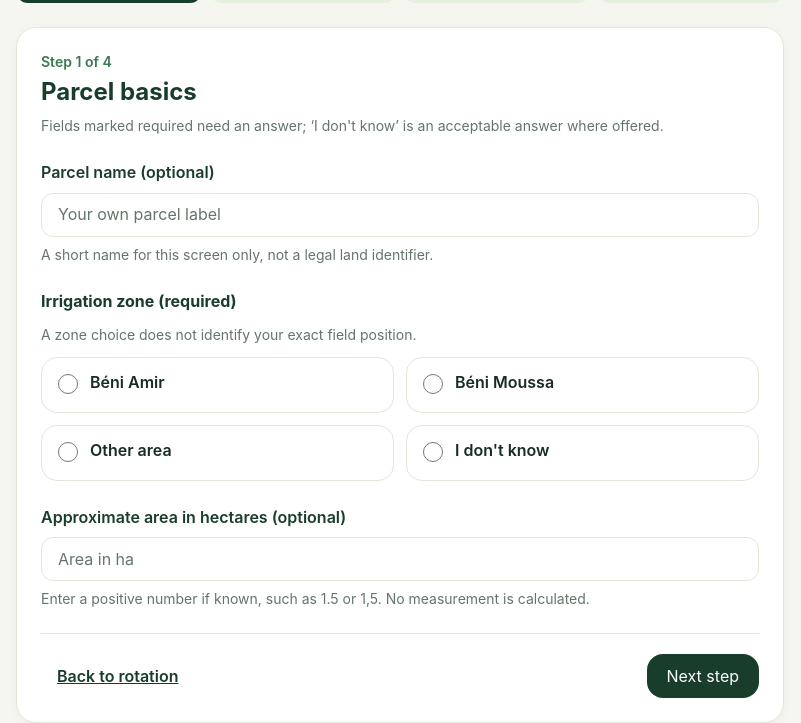
M2 guided parcel form › shows a required zone error and then accepts an explicit unknown
The width and height of the screenshot is (801, 723).
(page scrolled)
Click the button "Next step" at (703, 676), box [646,654,759,698]
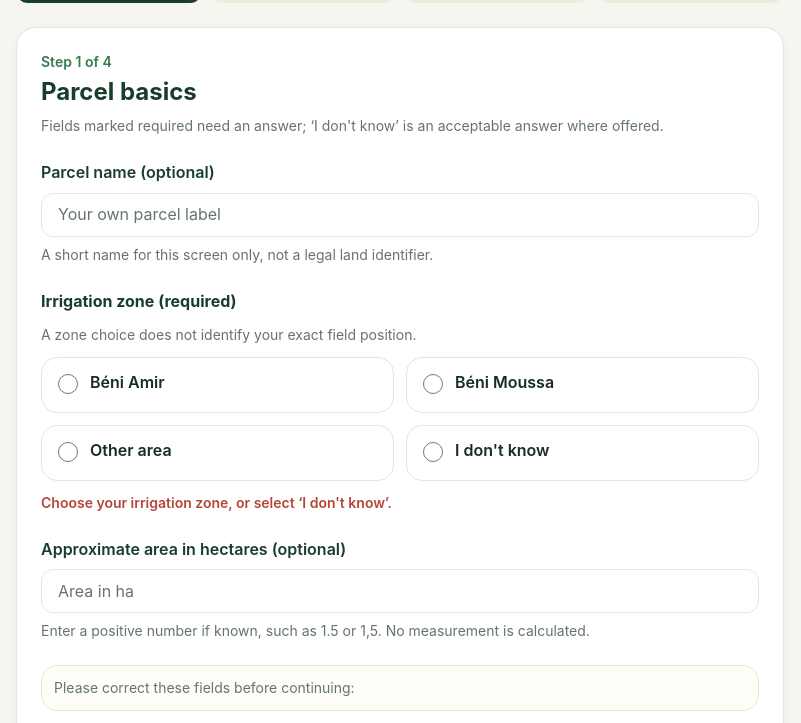
Expected: the heading "Parcel basics" is shown, [41,77,197,106]
Now the text "Choose your irrigation zone, or select ‘I don't know’." is shown, box [41,494,392,511]
Click the radio button labelled "I don't know" at (433, 452), box [423,442,443,462]
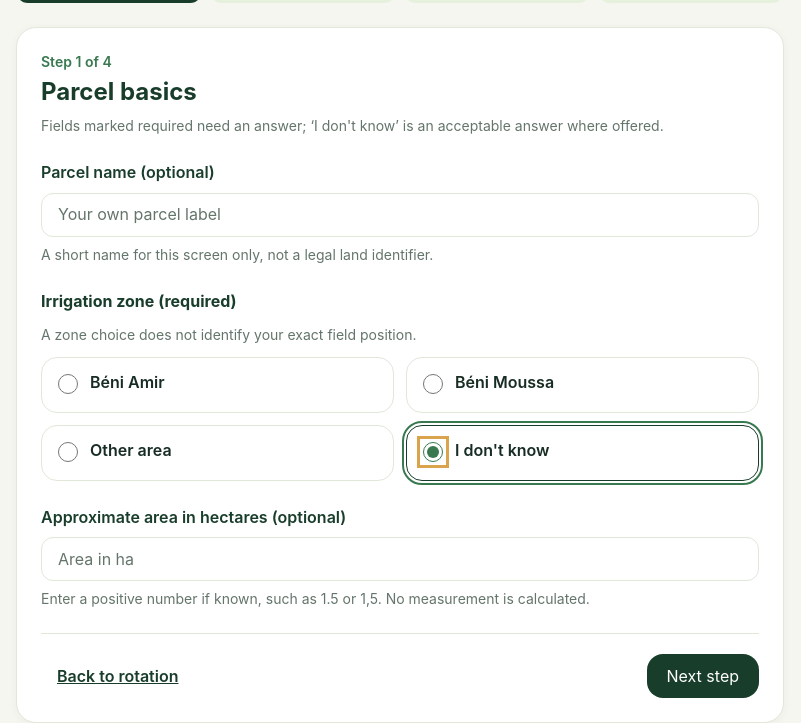
Click the button "Next step" at (703, 676), box [646,654,759,698]
(page scrolled)
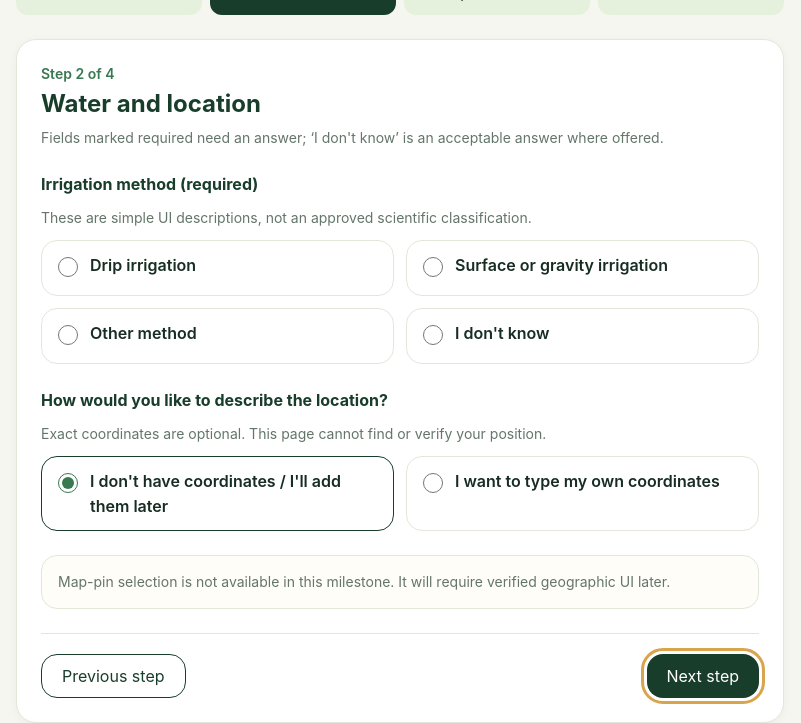
Now the heading "Water and location" is shown, box [41,89,261,118]
